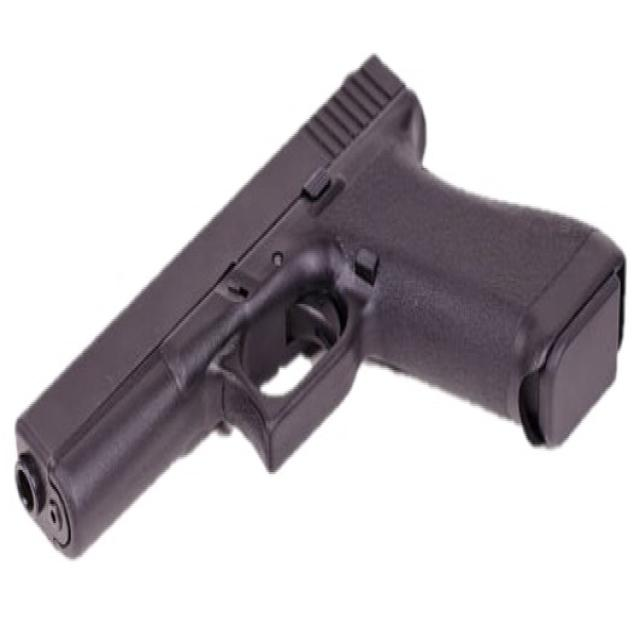pistol: (8, 50, 637, 567)
